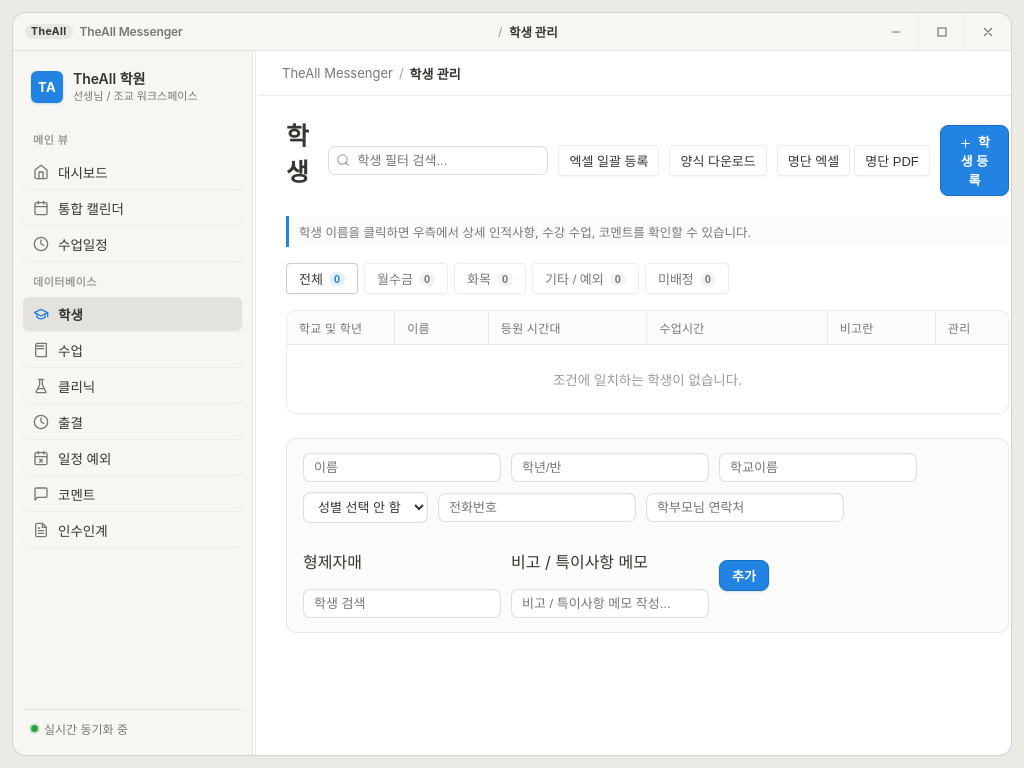
Test: App › switches to the handover notes tab
The image size is (1024, 768).
Click the button "인수인계".
click(132, 530)  # box [23,513,242,547]
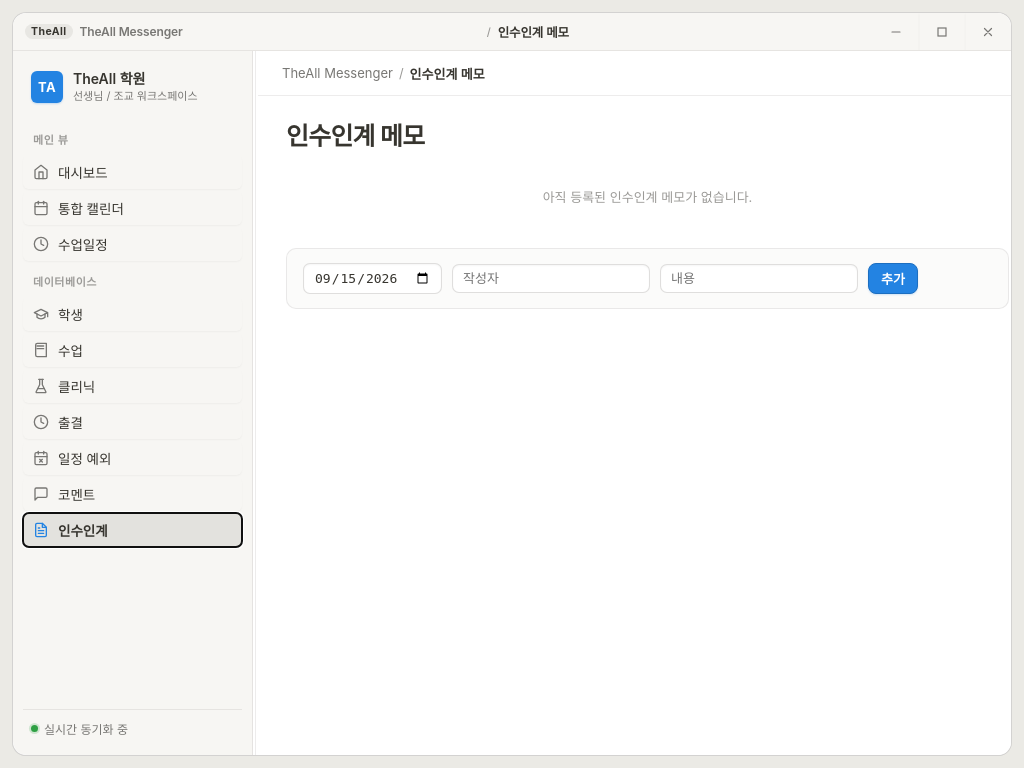
Result: the heading "인수인계 메모" is shown at [286,121,424,151]
